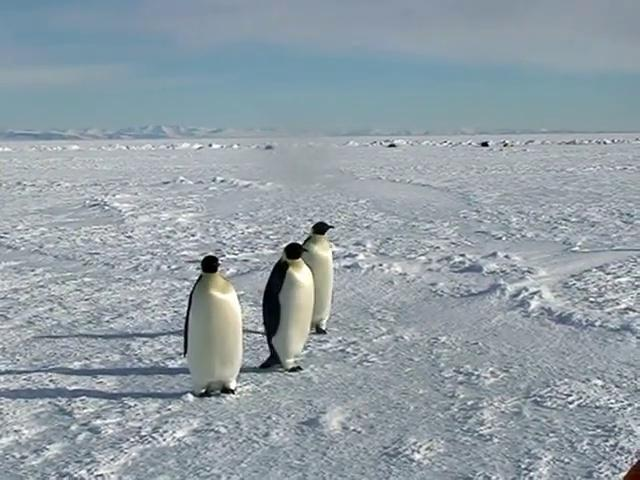animal: (304, 222, 335, 335)
